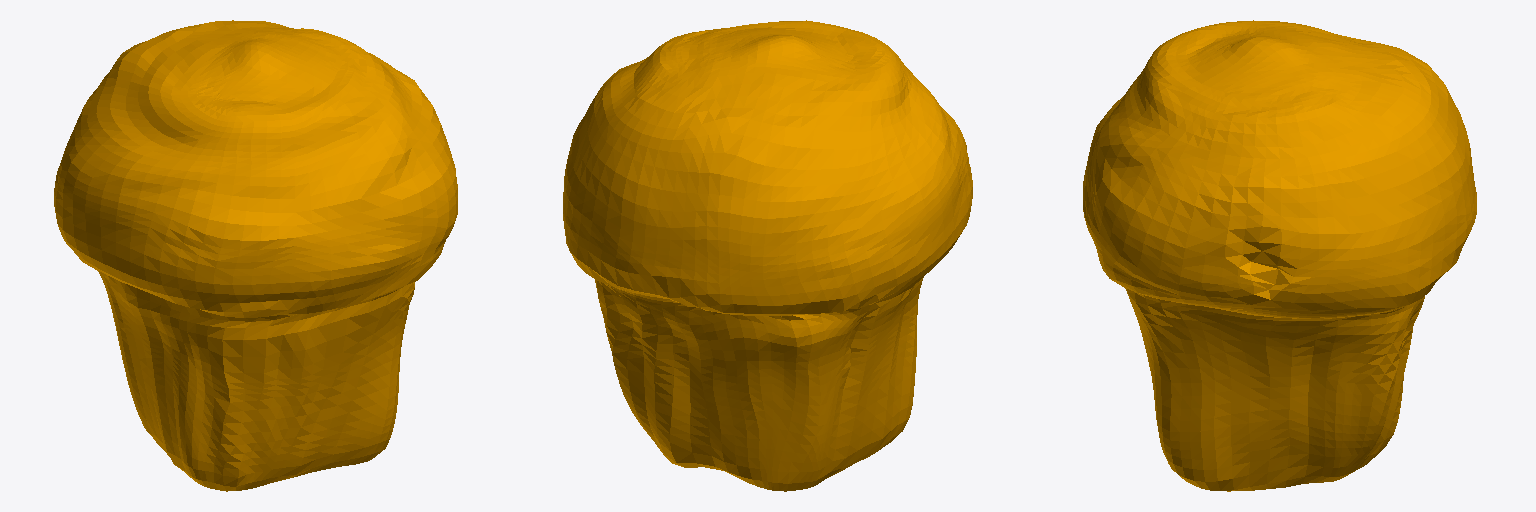
The robot description file, URDF, robot "mesh_object":
<?xml version="1.0" ?>
<robot name="mesh_object">
  <link name="base">
    <visual>
      <geometry>
        <mesh filename="cupcake_3_v000.obj" scale="1 1 1"/>
      </geometry>
    </visual>
    <collision>
      <geometry>
        <mesh filename="cupcake_3_v000.obj" scale="1 1 1"/>
      </geometry>
    </collision>
    <inertial>
      <origin xyz="0.000835 0.000339 0.050015" rpy="0 0 0"/>
      <mass value="0.500000"/>
      <inertia ixx="0.01" iyy="0.01" izz="0.01" ixy="0" ixz="0" iyz="0"/>
    </inertial>
  </link>
</robot>

--- Facts derived from the render (not from the file) ---
Views: 3 orthographic renders of the robot side by side, from view 1: azimuth 30°, elevation 25°; view 2: azimuth 150°, elevation 25°; view 3: azimuth 270°, elevation 25°.
Robot: mesh_object — 1 links, 0 joints (none); root link base; default pose: every joint at zero.
Visible links, largest first — view 1: base; view 2: base; view 3: base.
Link boxes in pixels (bbox=[...]): base: bbox=[54, 20, 457, 491]; base: bbox=[563, 20, 972, 491]; base: bbox=[1083, 20, 1476, 491].
Size in the robot's own frame: 0.089 by 0.0869 by 0.1 metres.
Meshes: 1 distinct files referenced, 1 mesh visuals loaded (1 OBJ).
